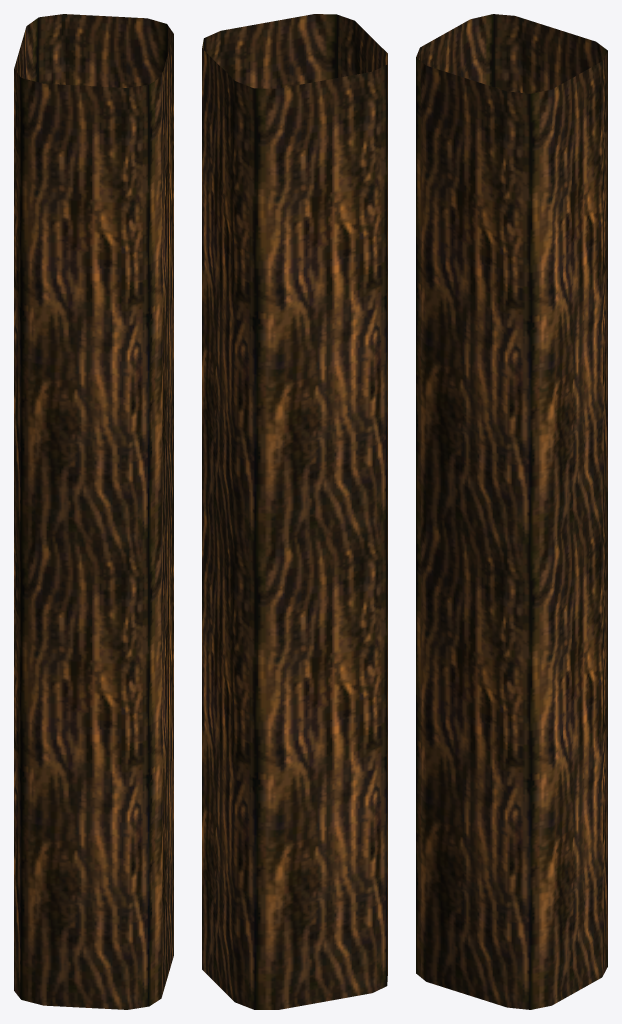
The model's file is OVERHILL_A_01_LINE260.fbx.
3 renders of one model, left to right at view 1: azimuth 30°, elevation 25°; view 2: azimuth 150°, elevation 25°; view 3: azimuth 270°, elevation 25°, orthographic.
Visible parts, largest first — view 1: OVERHILL_A_01_LINE260; view 2: OVERHILL_A_01_LINE260; view 3: OVERHILL_A_01_LINE260.
Boxes of the visible parts, x1=… form: OVERHILL_A_01_LINE260: x1=14, y1=14, x2=173, y2=1009; OVERHILL_A_01_LINE260: x1=202, y1=14, x2=387, y2=1009; OVERHILL_A_01_LINE260: x1=416, y1=14, x2=607, y2=1009.
Bounding box in the file's own units: 6000 × 32107 × 6095.
Materials: 1 (1 with a texture image).
